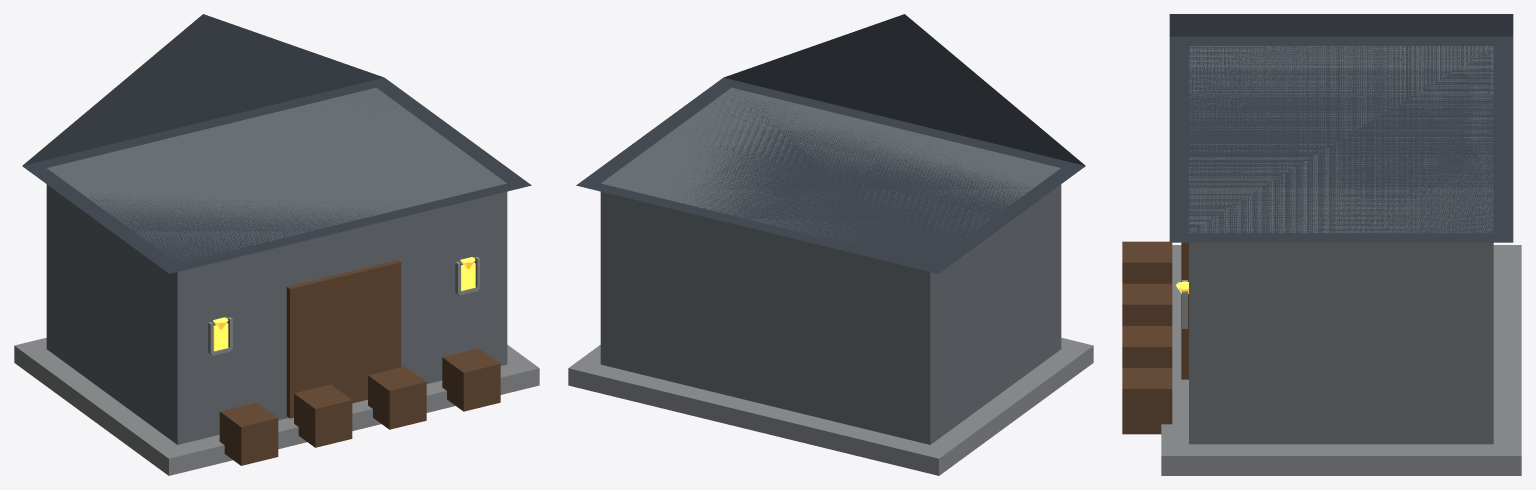
The model's file is warehouse.glb.
The picture shows the model from 3 angles, left to right: view 1: azimuth 30°, elevation 25°; view 2: azimuth 150°, elevation 25°; view 3: azimuth 270°, elevation 25°; orthographic projection. The views are drawn at different scales.
Parts seen in each view (by area): view 1: Walls, Roof, MainDoor, Foundation, Crate0, Crate1, Crate3, Crate2; view 2: Walls, Roof, Foundation; view 3: Walls, Roof, Foundation, Crate3, Crate1, Crate0, Crate2, MainDoor.
Part boxes in pixels (bbox=[...]): Walls: bbox=[46, 87, 507, 444]; Roof: bbox=[22, 14, 531, 273]; MainDoor: bbox=[286, 260, 401, 418]; Foundation: bbox=[14, 337, 539, 475]; Crate0: bbox=[219, 402, 278, 465]; Crate1: bbox=[294, 384, 352, 447]; Crate3: bbox=[442, 348, 500, 411]; Crate2: bbox=[368, 366, 426, 429]; Walls: bbox=[600, 87, 1061, 444]; Roof: bbox=[576, 14, 1085, 273]; Foundation: bbox=[568, 337, 1093, 475]; Walls: bbox=[1189, 46, 1493, 444]; Roof: bbox=[1169, 14, 1513, 242]; Foundation: bbox=[1161, 245, 1521, 475]; Crate3: bbox=[1122, 368, 1172, 434]; Crate1: bbox=[1122, 283, 1172, 325]; Crate0: bbox=[1122, 241, 1172, 283]; Crate2: bbox=[1122, 326, 1172, 367]; MainDoor: bbox=[1181, 242, 1188, 379].
Bounding box in the file's own units: 9 × 7.1 × 7.2.
